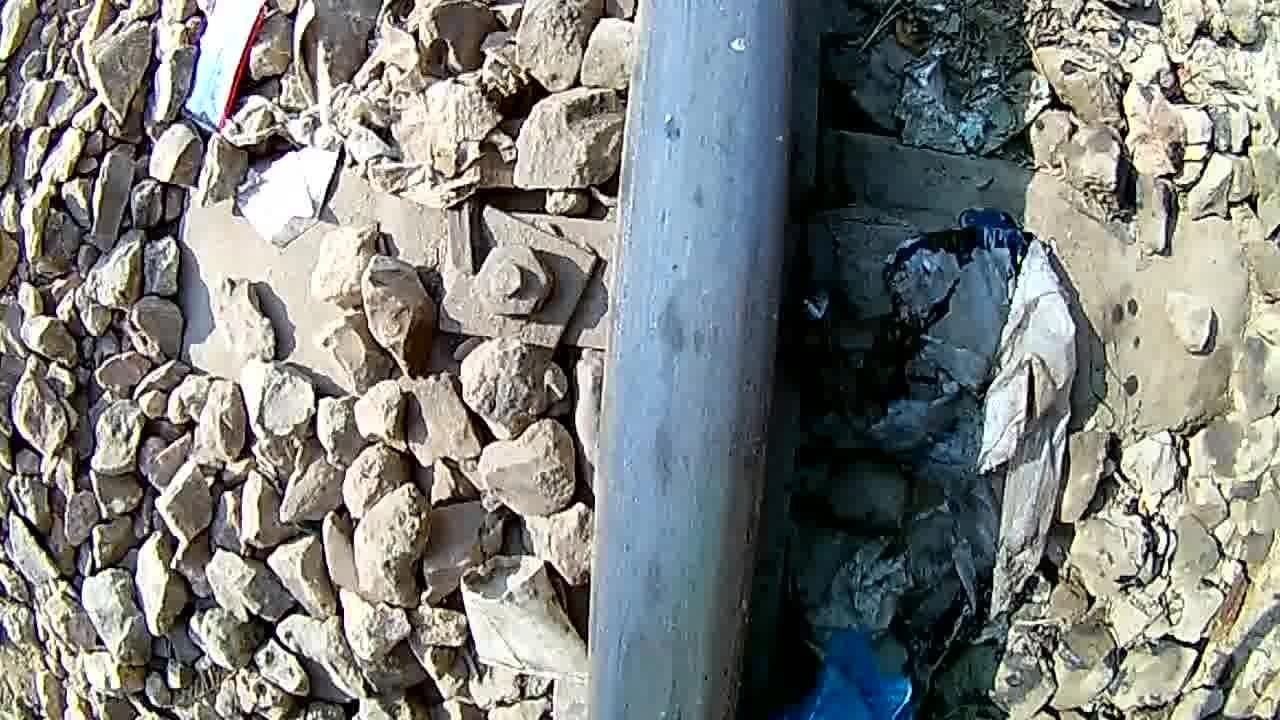bolt_missing: (575, 104, 785, 720)
